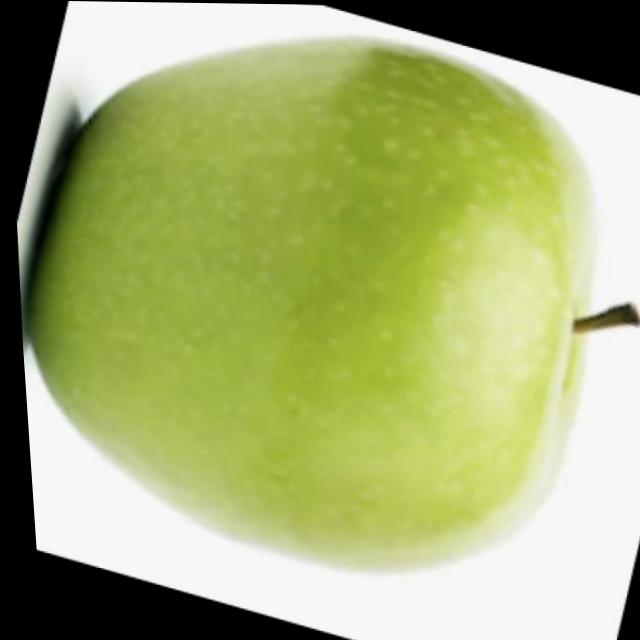Apple: (1, 26, 640, 584)
